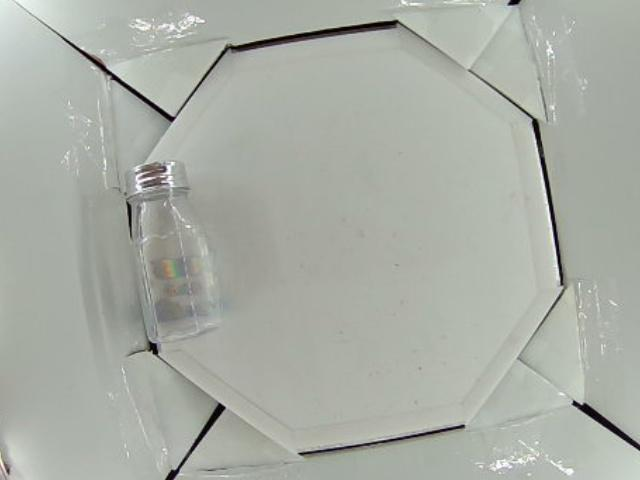Bottle: (122, 159, 225, 345)
